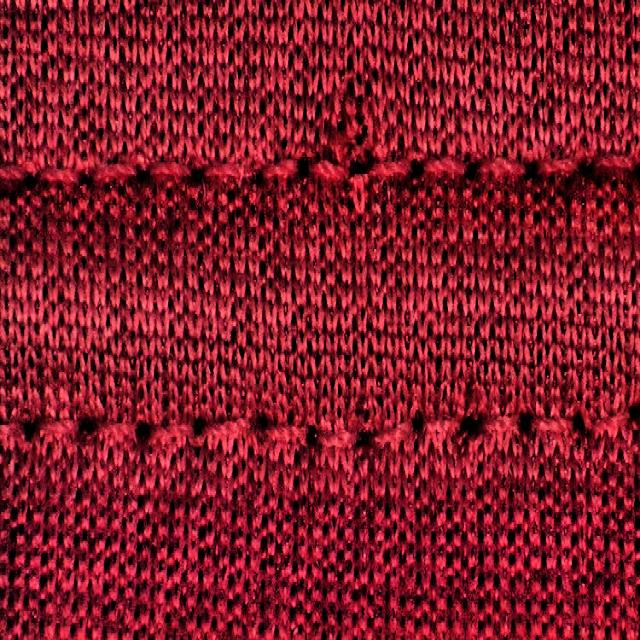Stitch: (274, 125, 472, 238)
